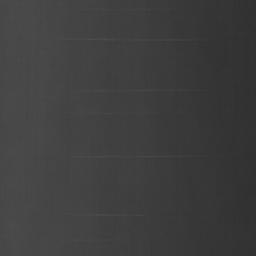Waist folding: (72, 154, 207, 160), (64, 38, 202, 43), (80, 89, 201, 94), (80, 8, 171, 13), (64, 213, 144, 218), (81, 112, 137, 119), (72, 240, 112, 246)
